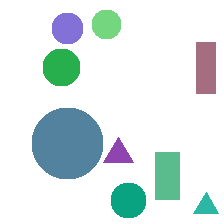circle: (32, 108, 102, 178), (43, 49, 79, 85), (111, 183, 145, 217), (52, 13, 82, 43), (92, 10, 120, 38)
rectangle: (155, 152, 179, 199), (196, 42, 215, 93)
triangle: (103, 137, 133, 162), (193, 192, 218, 213)
